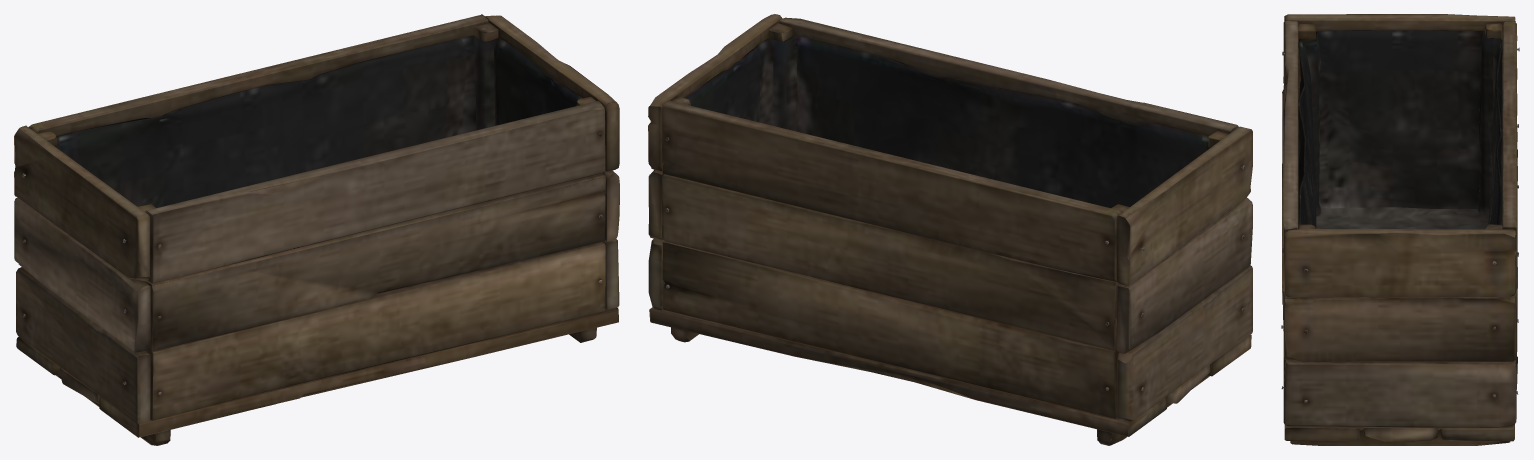
The model's file is planter_box_01.glb.
3 views of the same model, side by side, from view 1: azimuth 30°, elevation 25°; view 2: azimuth 150°, elevation 25°; view 3: azimuth 270°, elevation 25° (orthographic). The views are drawn at different scales.
Visible parts, largest first — view 1: planter_box_01; view 2: planter_box_01; view 3: planter_box_01.
Part boxes in pixels (box(x1,y1,x2,y2)): planter_box_01: box(14, 14, 619, 445); planter_box_01: box(648, 14, 1252, 445); planter_box_01: box(1281, 14, 1519, 445).
Bounding box in the file's own units: 0.9132 × 0.4255 × 0.4141.
1 material, 1 textured.
